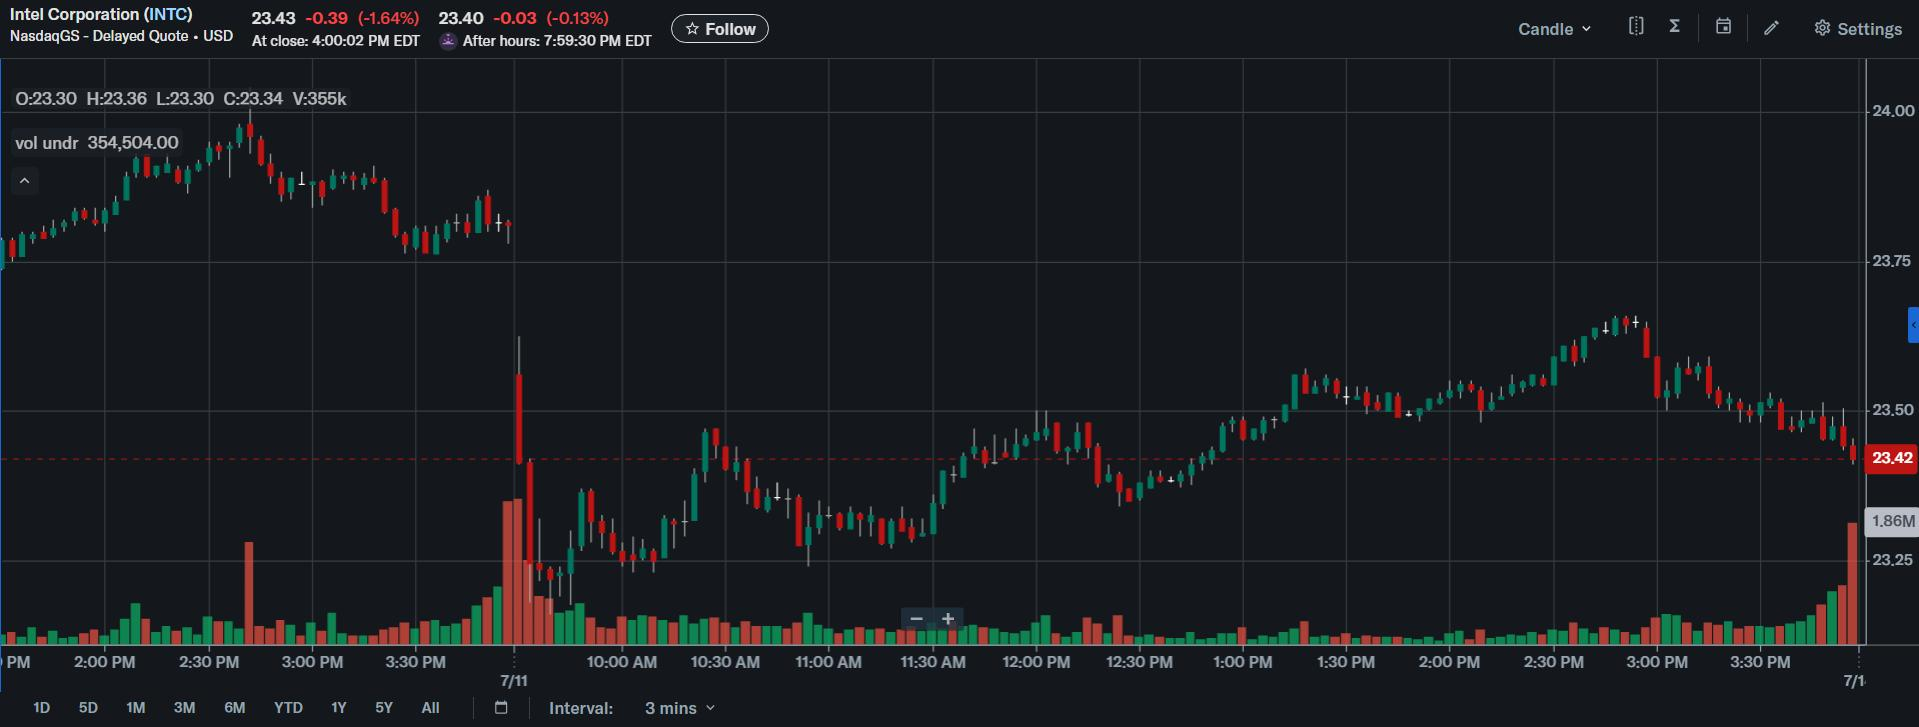Downtrend: (1629, 317, 1859, 479), (699, 415, 818, 573), (1068, 401, 1137, 514)
Sideways: (1285, 360, 1488, 433)
Uptrend: (917, 305, 1635, 546), (1133, 365, 1323, 510)
